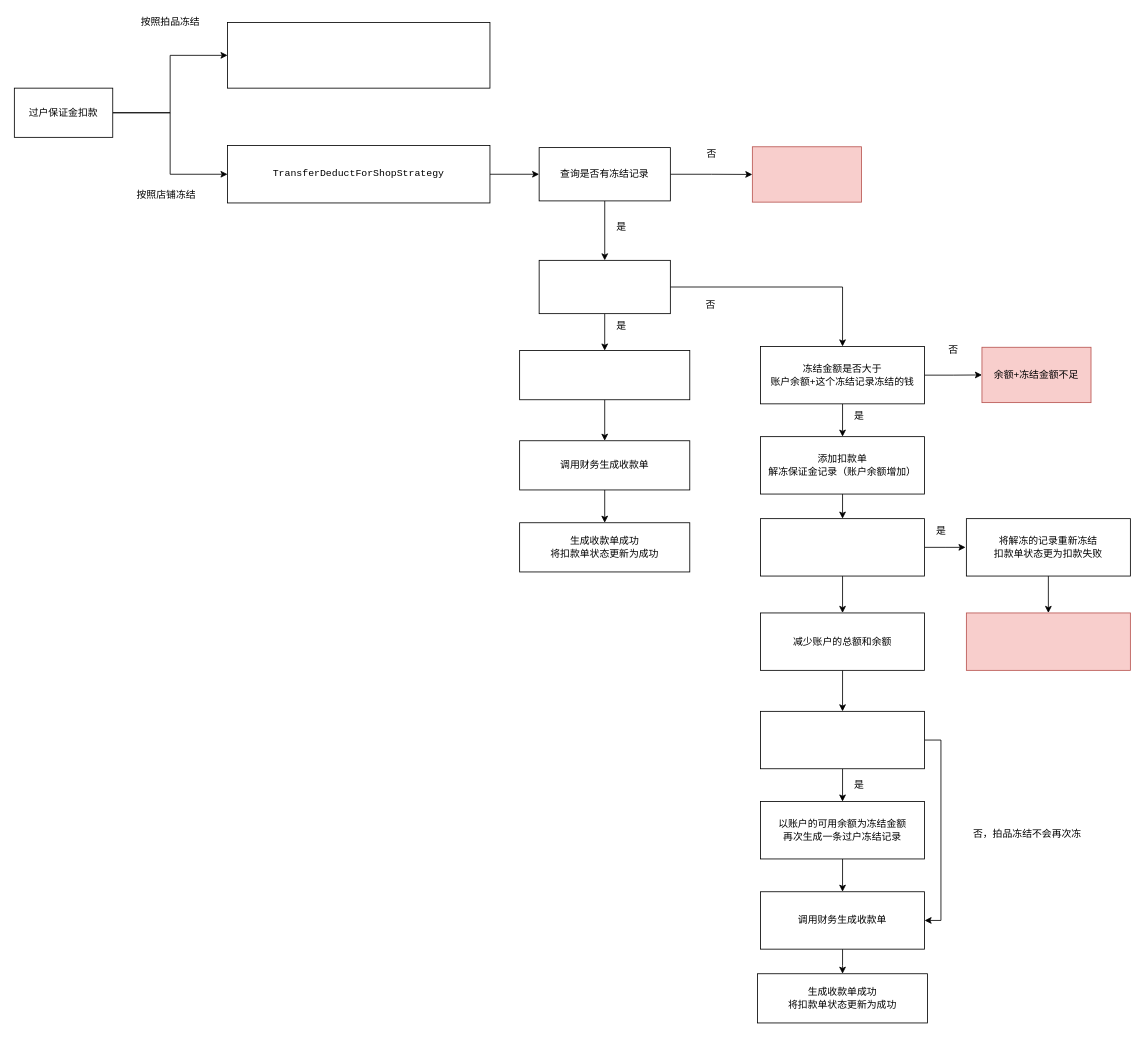
Some shapes in this 1145 by 1037 pixel diagram are drawn without their labels. Each missing label, with the centre of its shape:
TransferDeductForCarStrategy （由于枚举值比较被改错了，因此这个策略不会走到， 不管是拍品还是店铺都是店铺冻结策略）: pixel 358 55
冻结金额>账户余额: pixel 842 547
往t_deposit_charger插入扣款单 减少账户的总额和余额: pixel 604 375
账户余额是否大于冻结金额: pixel 604 287
过户保证金不足: pixel 1048 641
过户冻结方式是否为店铺冻结: pixel 842 740
返回无冻结记录: pixel 806 174
